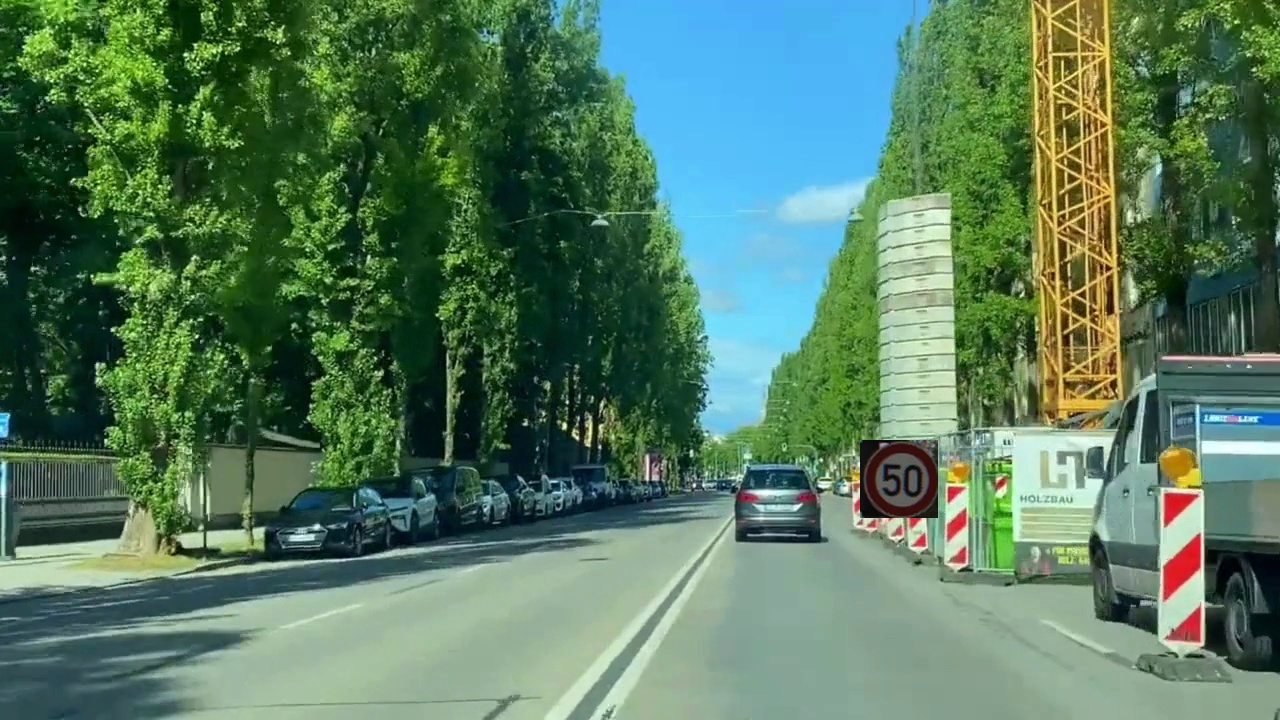Speed 50: (860, 440, 938, 518)
